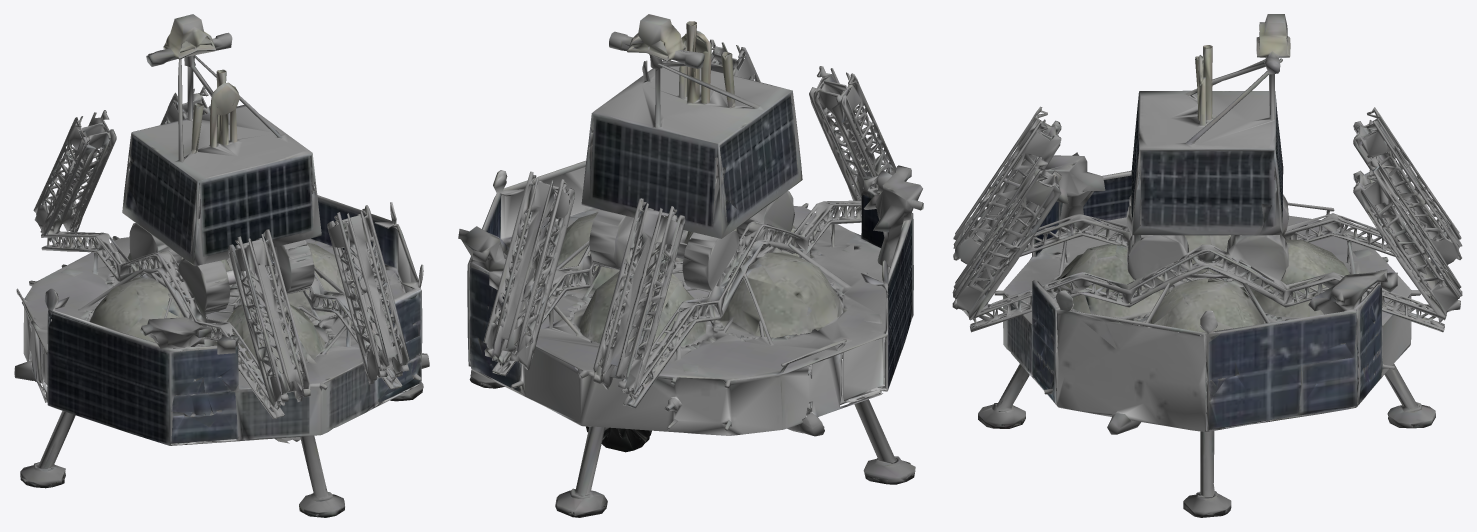
File: griffin.glb
3 renders of one model, left to right at view 1: azimuth 30°, elevation 25°; view 2: azimuth 150°, elevation 25°; view 3: azimuth 270°, elevation 25°, orthographic. The views are drawn at different scales.
Parts seen in each view (by area): view 1: world; view 2: world; view 3: world.
Boxes of the visible parts, x1,y1,x2,y2 form: world: (14,14,429,517); world: (458,14,923,517); world: (952,14,1462,517).
Bounding box in the file's own units: 0.9197 × 0.8686 × 1.
Materials: 1 (1 with a texture image).
